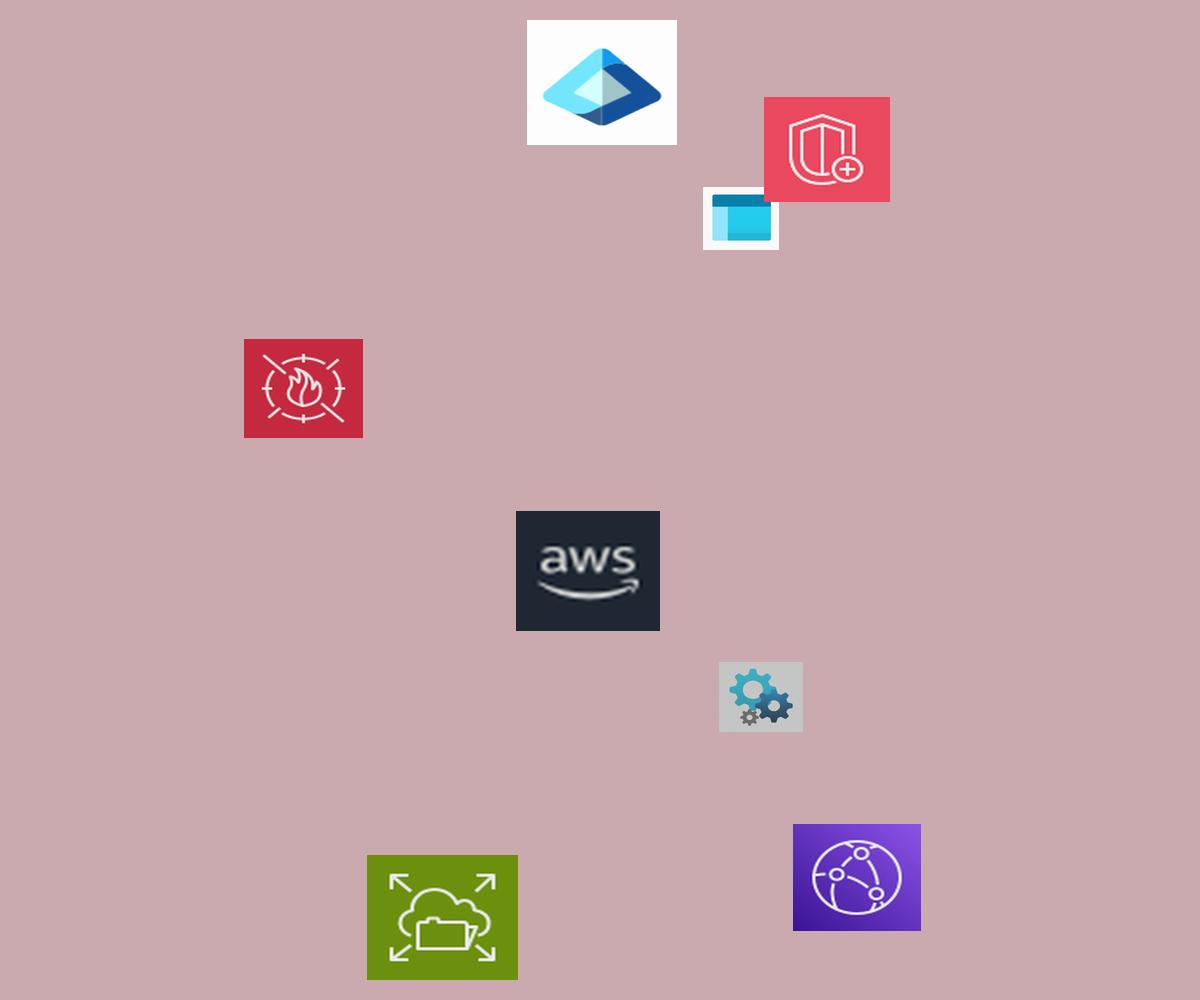AWS-Cloud-logo: (516, 511, 660, 631)
AWS-CloudFront: (793, 824, 921, 931)
AWS-EFS: (367, 855, 518, 980)
AWS-Shield: (764, 97, 890, 202)
AWS-WAF: (244, 339, 363, 438)
Azure_api: (719, 662, 803, 732)
Azure_management-portal: (703, 187, 779, 250)
Azure_microsoft_entra: (527, 20, 677, 145)
